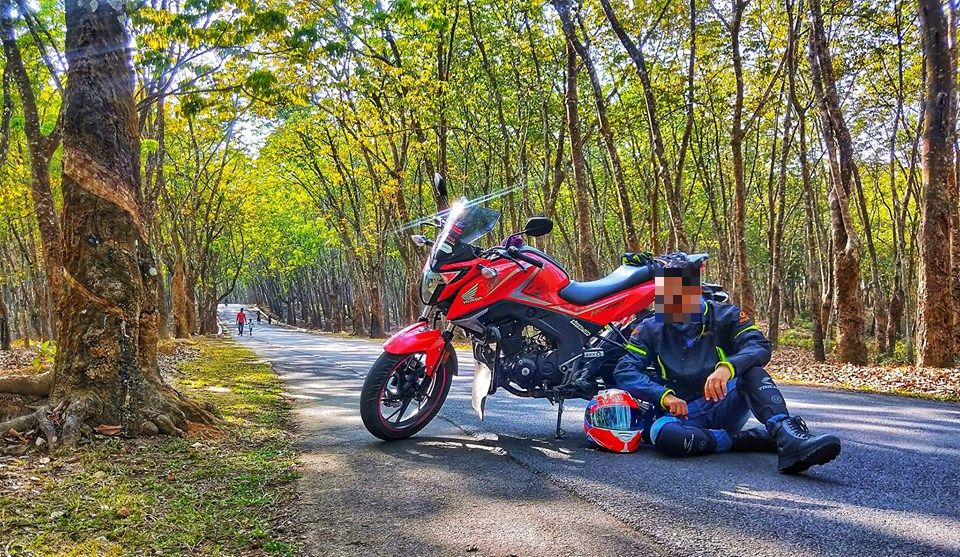bike: (360, 174, 726, 446)
